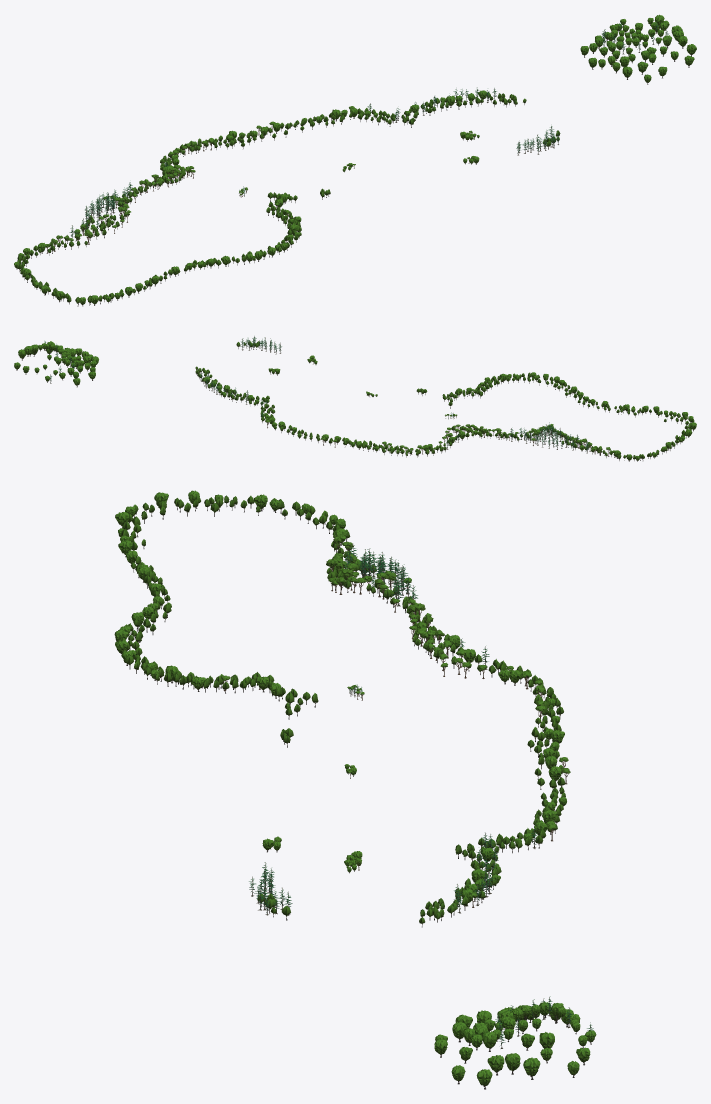
The model's file is nurburg_trees.FBX.
3 views of the same model, one above another, from view 1: azimuth 30°, elevation 25°; view 2: azimuth 150°, elevation 25°; view 3: azimuth 270°, elevation 25° (orthographic). The views are drawn at different scales.
Visible parts, largest first — view 1: prop_trees_1, prop_trees_2, prop_tree_castle; view 2: prop_trees_2, prop_trees_1, prop_tree_castle; view 3: prop_trees_1, prop_trees_2, prop_tree_castle.
Boxes of the visible parts, bbox=[...] form: prop_trees_1: bbox=[14, 87, 560, 306]; prop_trees_2: bbox=[17, 89, 559, 306]; prop_tree_castle: bbox=[580, 14, 696, 84]; prop_trees_2: bbox=[195, 336, 694, 461]; prop_trees_1: bbox=[195, 337, 696, 461]; prop_tree_castle: bbox=[14, 341, 98, 387]; prop_trees_1: bbox=[115, 492, 570, 927]; prop_trees_2: bbox=[114, 490, 568, 920]; prop_tree_castle: bbox=[434, 996, 596, 1089].
Size of the model in its own units: 46084 by 2543 by 16322.
